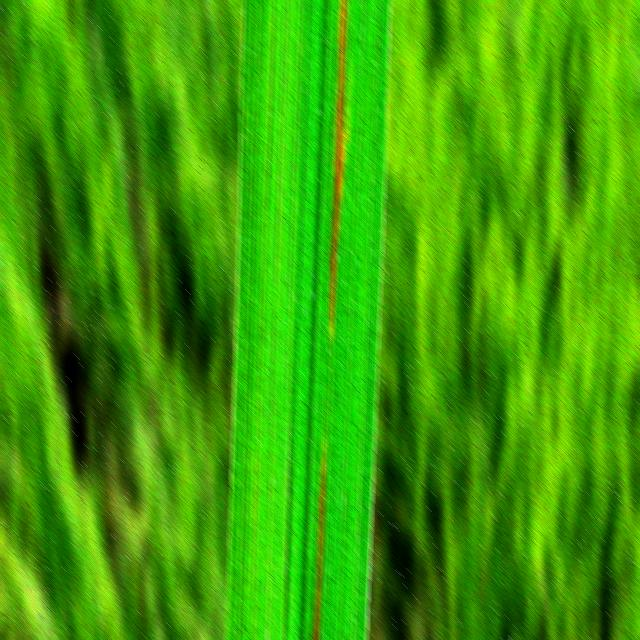NBS: (330, 0, 348, 336), (313, 440, 325, 640)
